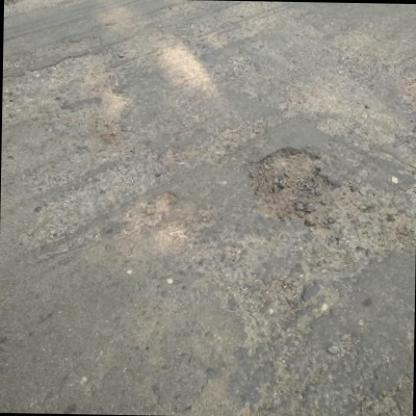pothole: (249, 147, 416, 247), (236, 268, 310, 352), (117, 184, 178, 236), (88, 110, 134, 155), (352, 386, 408, 416)
